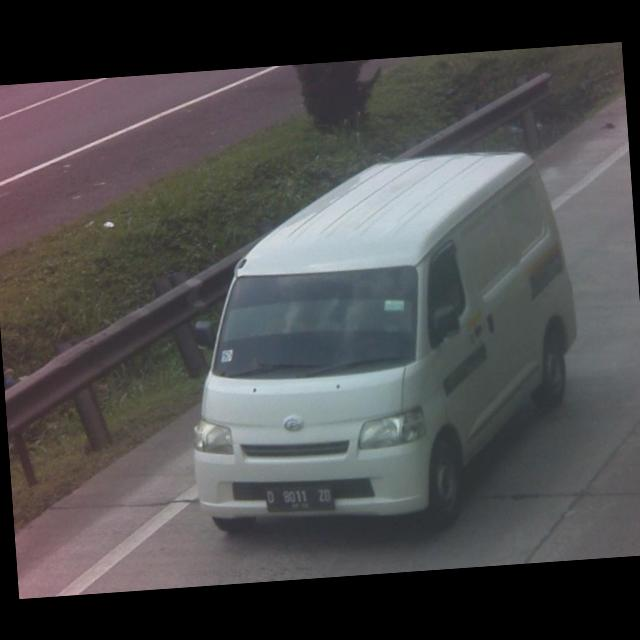plate: (262, 485, 334, 518)
